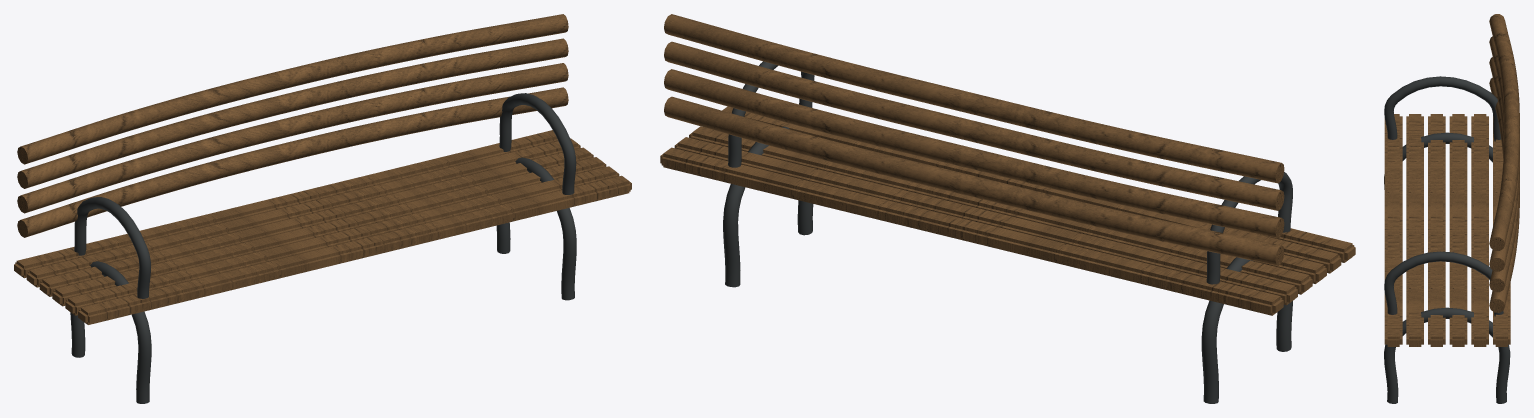
Rendered from commons_v25_terrace_bench.glb.
3 views of the same model, side by side, from view 1: azimuth 30°, elevation 25°; view 2: azimuth 150°, elevation 25°; view 3: azimuth 270°, elevation 25° (orthographic). The views are drawn at different scales.
Parts seen in each view (by area): view 1: commons_v25_terrace_bench_CC0_Oak_veneer, commons_v25_terrace_bench_Anodised_graphite; view 2: commons_v25_terrace_bench_CC0_Oak_veneer, commons_v25_terrace_bench_Anodised_graphite; view 3: commons_v25_terrace_bench_CC0_Oak_veneer, commons_v25_terrace_bench_Anodised_graphite.
Part boxes in pixels (<box>): commons_v25_terrace_bench_CC0_Oak_veneer: <box>14,14,631,324</box>; commons_v25_terrace_bench_Anodised_graphite: <box>70,93,576,403</box>; commons_v25_terrace_bench_CC0_Oak_veneer: <box>660,14,1355,315</box>; commons_v25_terrace_bench_Anodised_graphite: <box>723,61,1292,403</box>; commons_v25_terrace_bench_CC0_Oak_veneer: <box>1384,14,1519,346</box>; commons_v25_terrace_bench_Anodised_graphite: <box>1384,76,1510,403</box>.
Bounding box in the file's own units: 2.34 × 0.931 × 0.5974.
2 materials, 1 textured.
